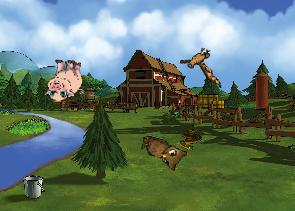eagle: (175, 42, 229, 88)
owl: (136, 134, 188, 173)
pig: (44, 57, 85, 102)
